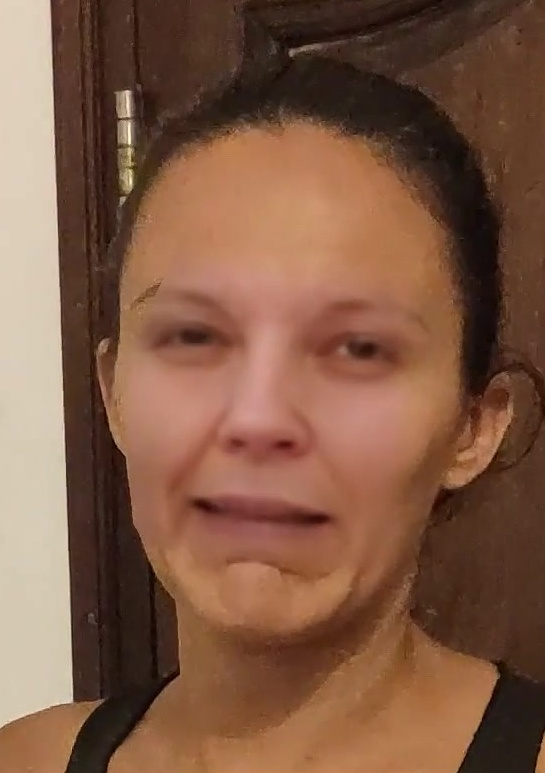eb_f: (121, 269, 446, 389)
